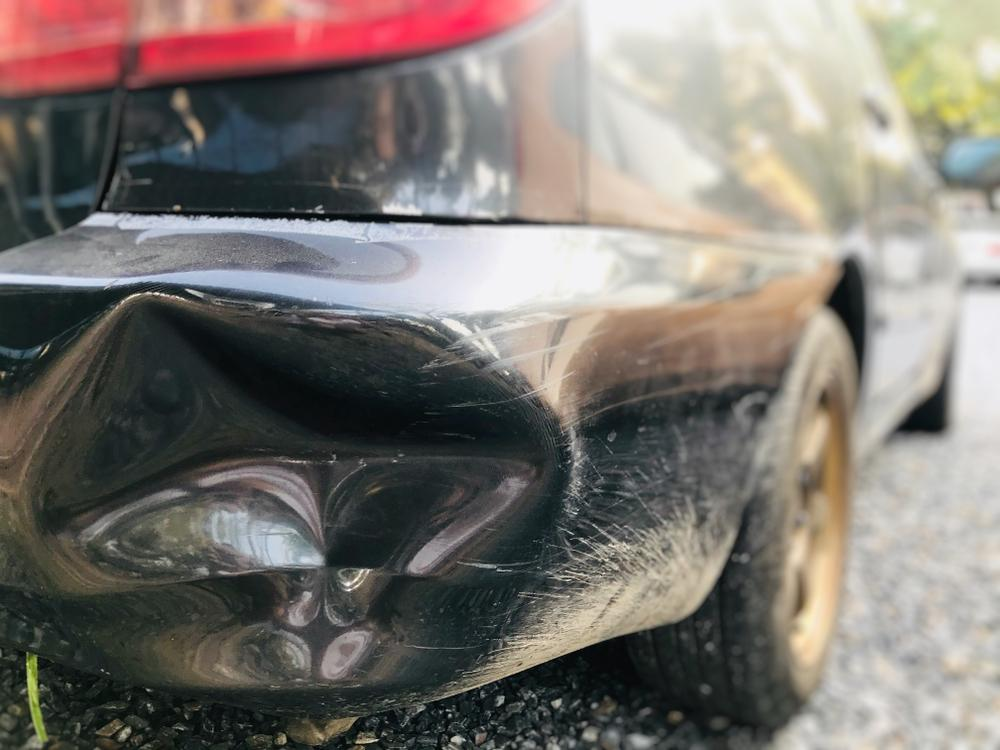dent: (12, 296, 546, 692)
